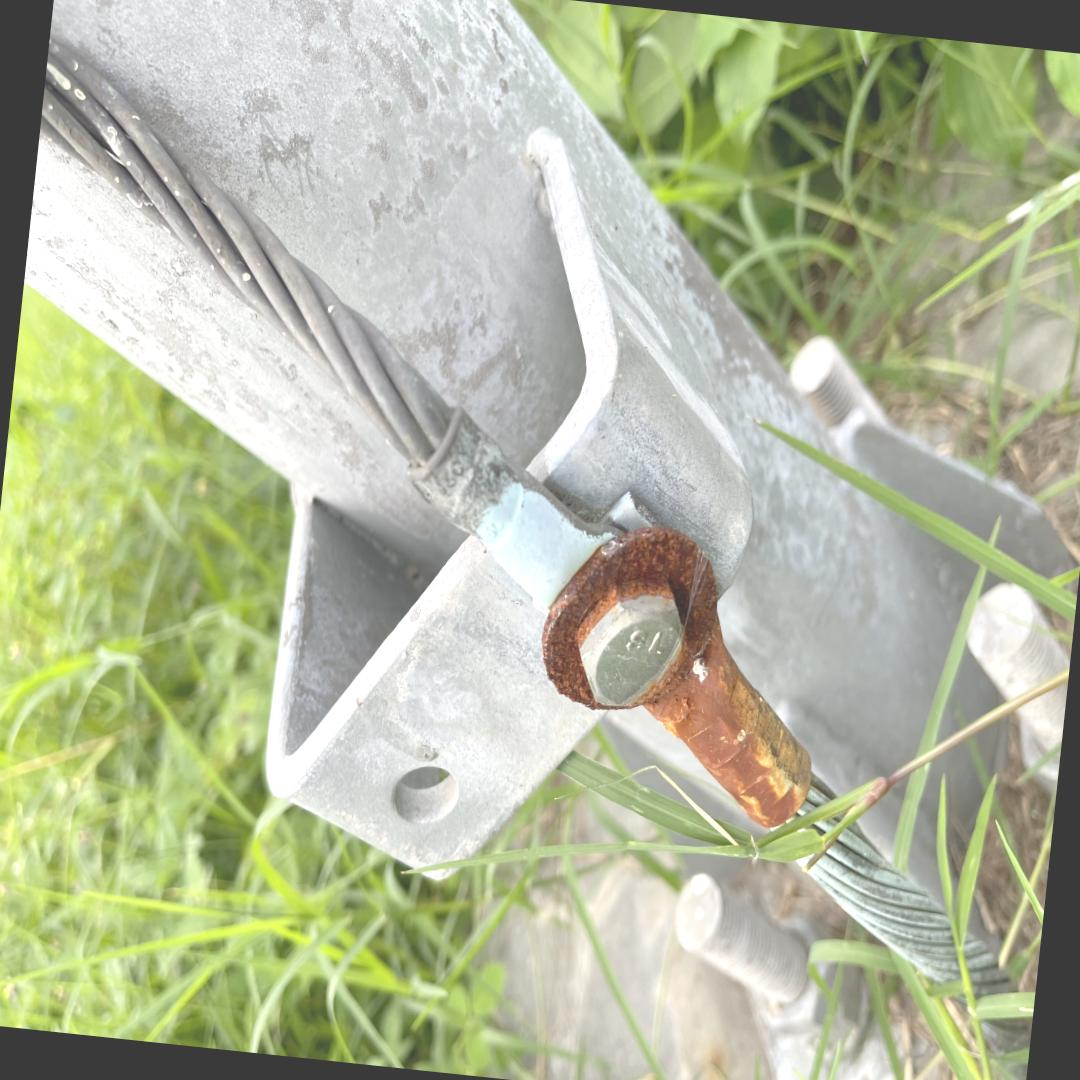Metal: (23, 0, 1080, 1060)
Metal corroido: (541, 526, 812, 830)
Tornillo sin corrosion: (580, 596, 679, 707)
